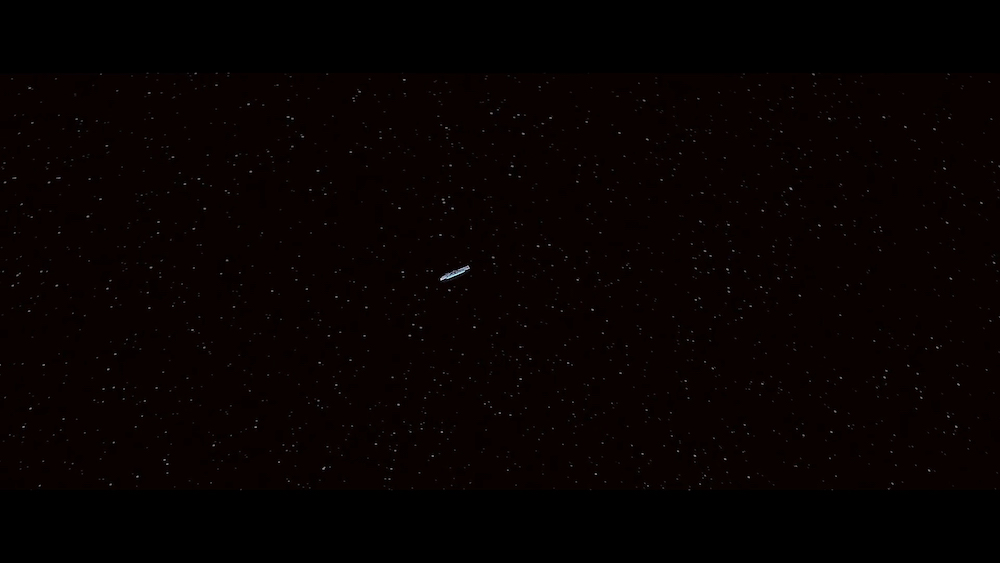Millennium Falcon: (440, 266, 471, 284)
